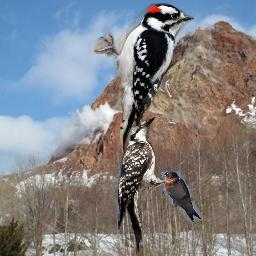Swallow: (161, 171, 201, 222)
Woodpecker: (94, 3, 194, 153), (113, 113, 170, 256)
